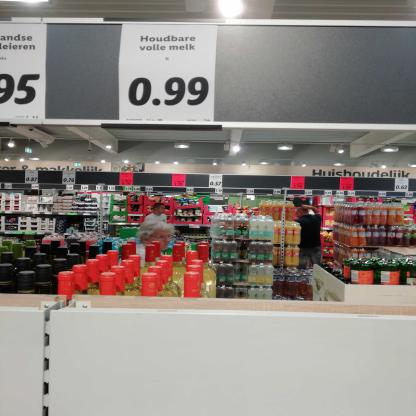prtg: (119, 25, 220, 123), (1, 25, 48, 120)
